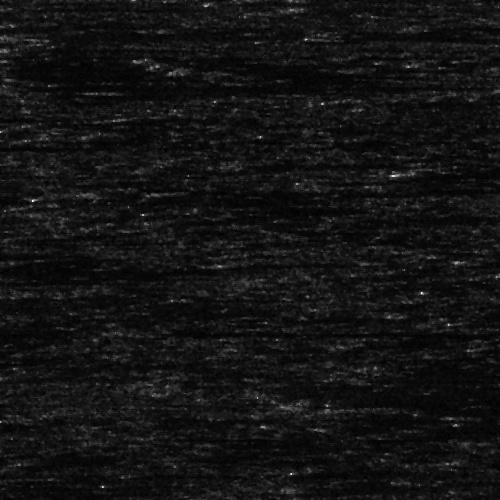object: (358, 165, 451, 180), (81, 328, 164, 335), (139, 187, 192, 194), (302, 33, 365, 38), (199, 261, 262, 266), (0, 79, 34, 88), (0, 31, 9, 40)
shadow: (0, 79, 352, 88), (4, 31, 225, 40), (165, 187, 409, 194), (123, 328, 355, 335), (405, 165, 500, 180), (333, 33, 494, 38), (231, 261, 313, 266)
